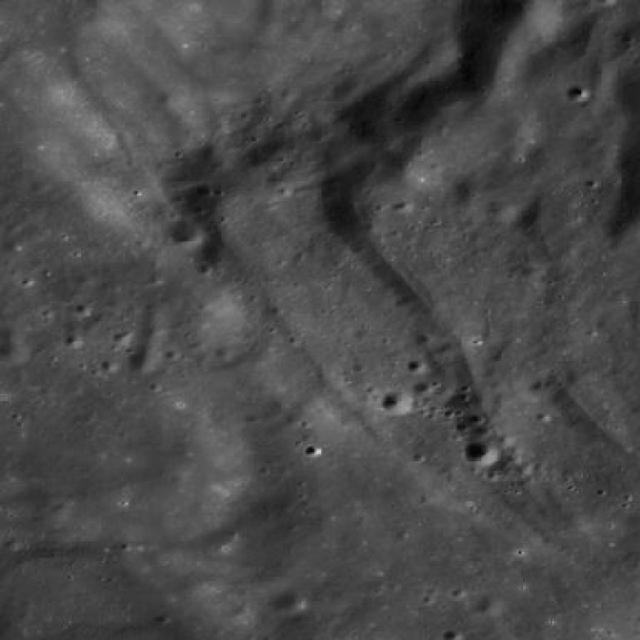crater: (456, 0, 561, 57), (456, 54, 518, 100), (396, 93, 446, 130), (170, 222, 207, 250), (270, 590, 306, 616), (134, 322, 170, 348), (380, 390, 416, 416), (463, 440, 499, 466), (126, 348, 160, 372), (0, 341, 29, 368), (471, 594, 504, 617), (269, 165, 302, 188), (246, 147, 277, 170), (484, 198, 516, 220), (452, 178, 482, 200), (0, 238, 28, 258), (0, 326, 23, 344), (566, 86, 588, 102)
